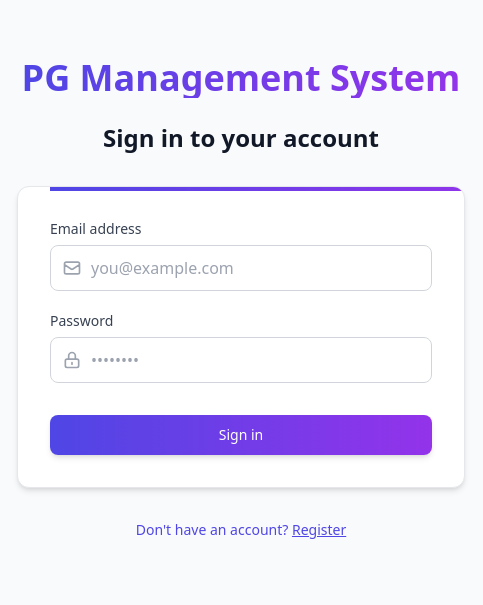
Test case: LoginPage › displays error message on failed login
// Fill in the form
Step 1. Type "test@example.com" into the field labelled "Email address" → (241, 268), box [50, 245, 432, 291]
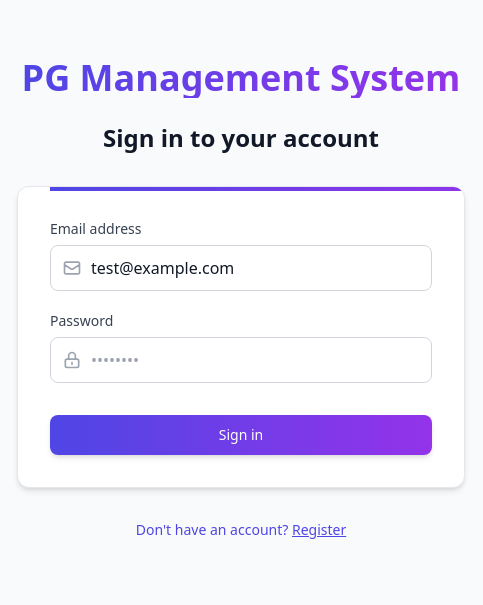
Step 2. Type "wrongpassword" into the password field labelled "Password" → (241, 360), box [50, 337, 432, 383]
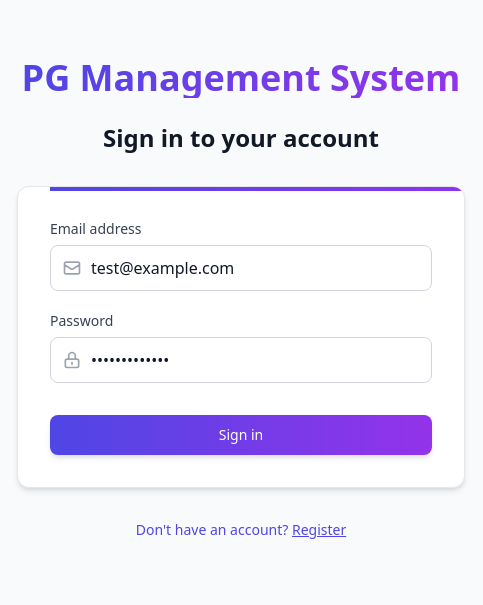
// Submit the form
Step 3. Click the button "Sign in" → (241, 435), box [50, 415, 432, 455]
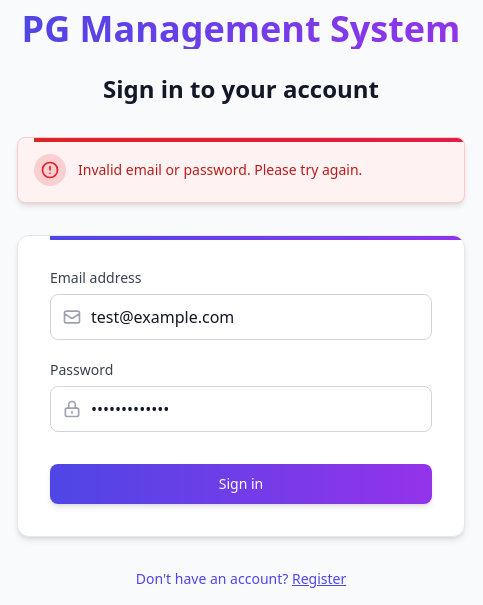
Result: the text "Invalid email or password. Please try again." is shown at [78, 160, 362, 180]
